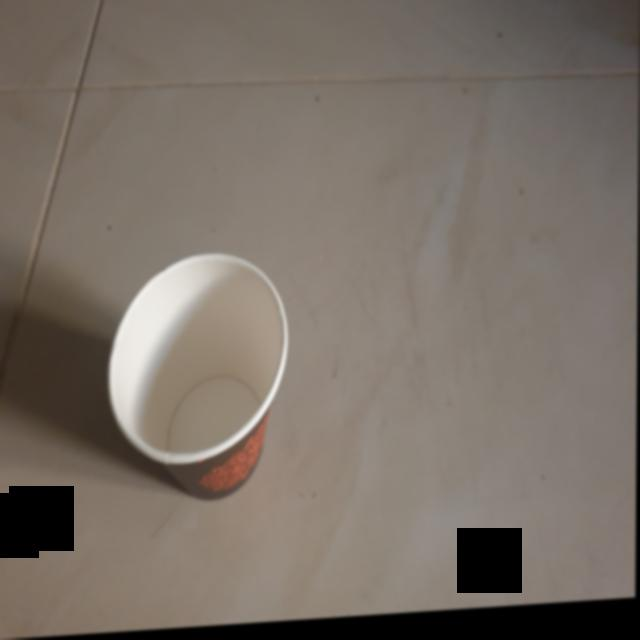cups: (98, 238, 303, 524)
